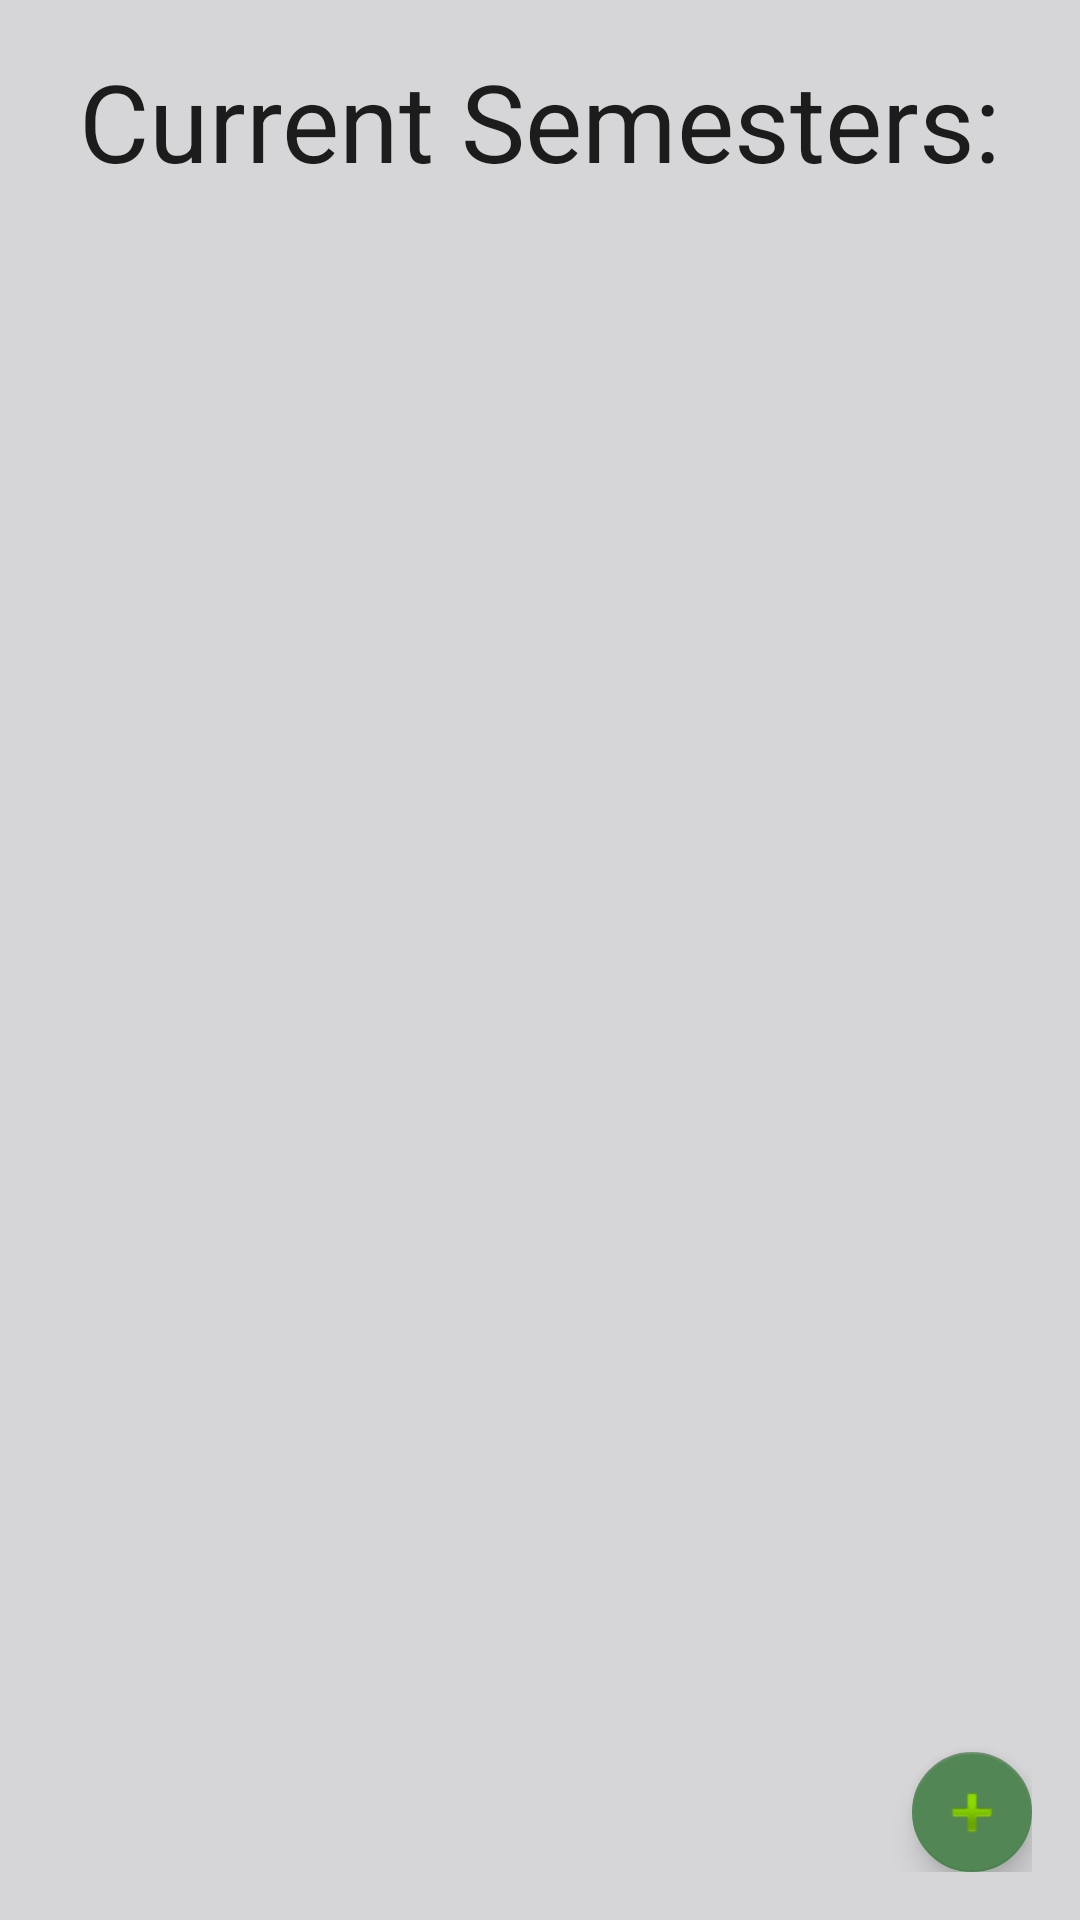

Icon bounding boxes for this 1080x1920 phone screenshot, format detection(x1, y1, x2, y2):
add: detection(912, 1752, 1032, 1872)
